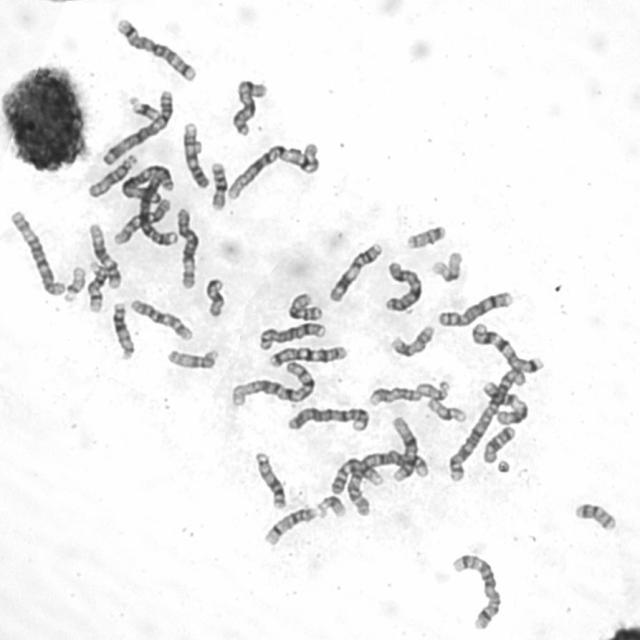A1: (223, 138, 322, 202), (227, 357, 317, 409)
A2: (444, 366, 526, 484), (342, 447, 433, 517)
A3: (98, 86, 175, 167), (117, 162, 175, 204)
B4: (135, 163, 179, 248), (284, 403, 371, 434)
B5: (112, 15, 198, 83), (448, 549, 502, 633)
C10: (126, 296, 194, 342), (110, 196, 172, 246)
C11: (326, 239, 384, 304), (478, 377, 530, 427)
C12: (85, 218, 123, 290), (387, 412, 420, 482)
C6: (7, 207, 67, 297), (173, 203, 199, 291)
C7: (468, 319, 545, 375), (265, 341, 349, 369)
C8: (434, 288, 514, 328), (255, 319, 327, 351)
C9: (328, 454, 384, 496), (179, 118, 211, 190)
D13: (251, 448, 288, 511), (108, 299, 136, 360)
D14: (260, 504, 323, 547), (83, 260, 108, 314)
D15: (84, 149, 139, 200), (167, 345, 220, 372)
E16: (284, 288, 324, 322), (206, 158, 228, 212)
E17: (388, 322, 436, 358), (365, 383, 424, 408)
E18: (479, 423, 517, 465), (202, 274, 227, 319)
F19: (428, 248, 464, 284), (423, 396, 468, 424)
F20: (571, 499, 619, 533), (403, 222, 447, 250)
G21: (124, 92, 160, 123), (313, 492, 347, 520)
G22: (58, 262, 86, 304), (415, 378, 455, 400)
X: (228, 75, 268, 138), (381, 258, 424, 314)
